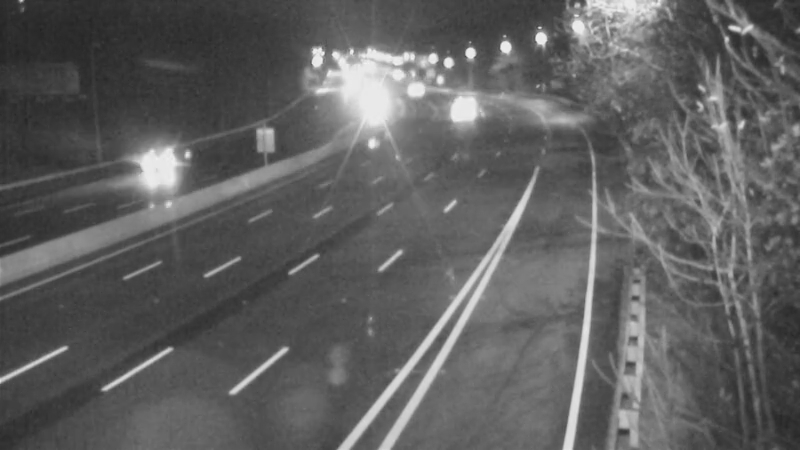vehicle: (112, 127, 192, 207), (393, 65, 443, 115), (437, 76, 487, 126), (441, 86, 491, 136)
